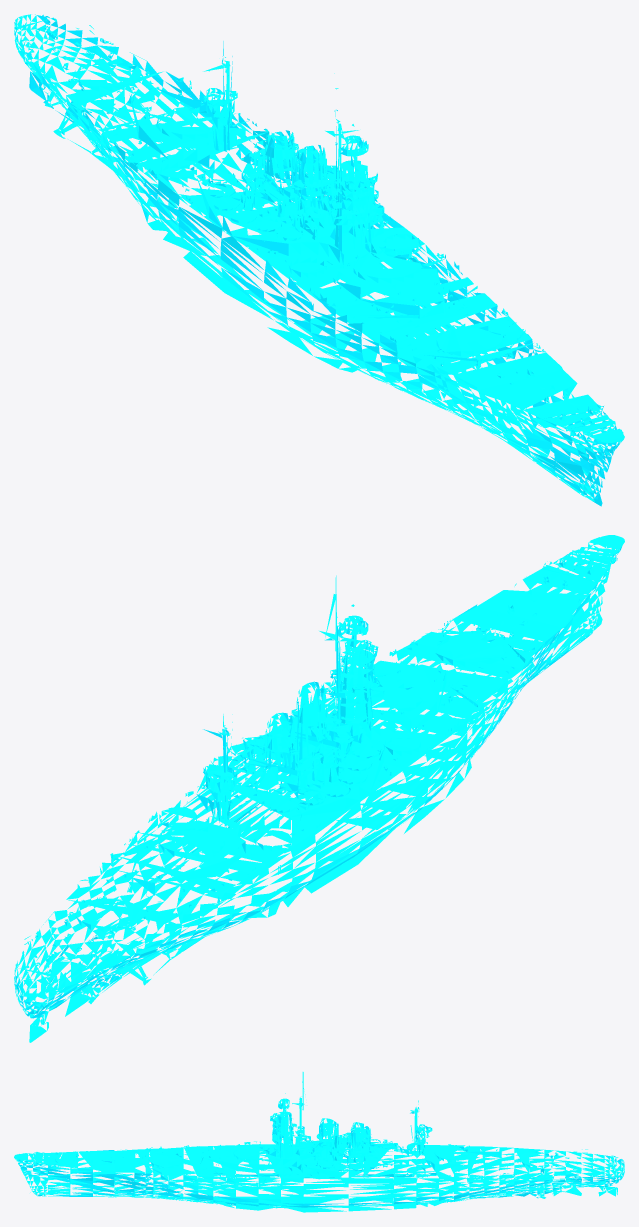
File: BA_Marcantonio_Colonna.glb
The picture shows the model from 3 angles, top to bottom: view 1: azimuth 30°, elevation 25°; view 2: azimuth 150°, elevation 25°; view 3: azimuth 270°, elevation 25°; orthographic projection. The views are drawn at different scales.
Bounding box in the file's own units: 1.98 × 3.23 × 14.3.
